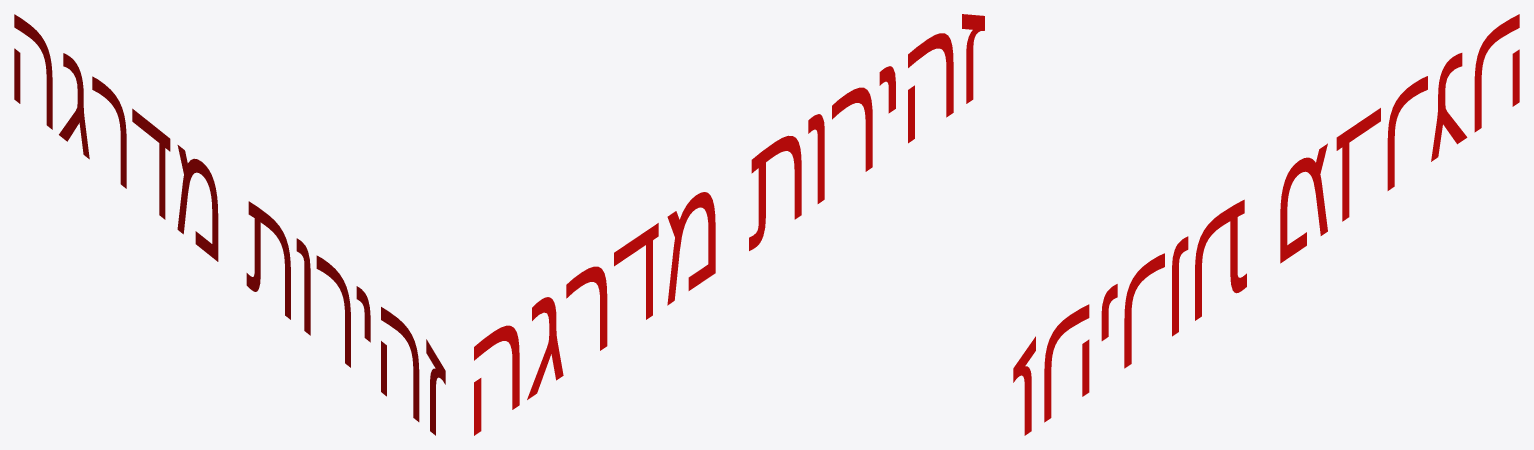
The model's file is Center_piece_text.fbx.
The picture shows the model from 3 angles, left to right: view 1: azimuth 30°, elevation 25°; view 2: azimuth 150°, elevation 25°; view 3: azimuth 330°, elevation 25°; orthographic projection. The views are drawn at different scales.
Visible parts, largest first — view 1: Mesh2009; view 2: Mesh2009; view 3: Mesh2009.
Boxes of the visible parts, x1,y1,x2,y2 form: Mesh2009: (14,14,445,435); Mesh2009: (474,14,984,435); Mesh2009: (1013,14,1519,435).
Bounding box in the file's own units: 3.12 × 9.3 × 85.6.
